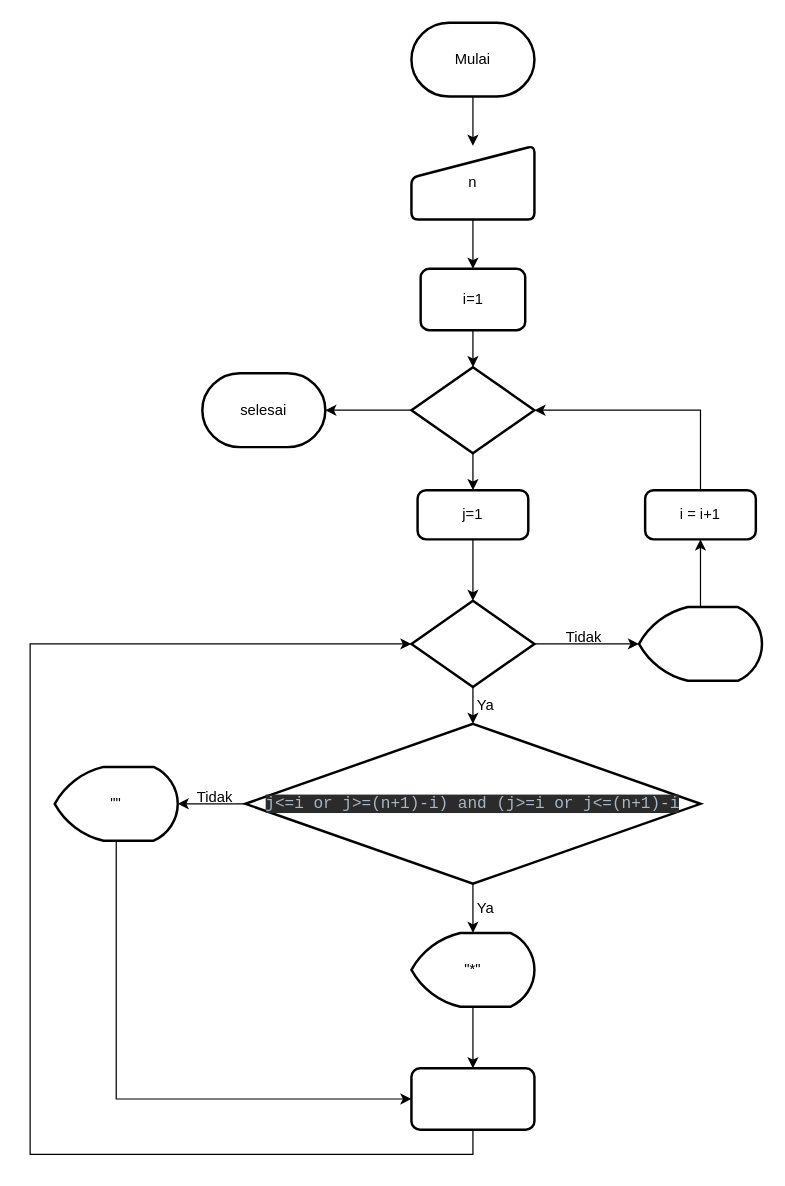
Image size: 785x1186. Some labels were removed from this diagram. Each missing label, with the centre of its shape:
"/n": the point at 700,643
i<=n: the point at 472,409
j<=n: the point at 472,643
j=j+1: the point at 472,1098
